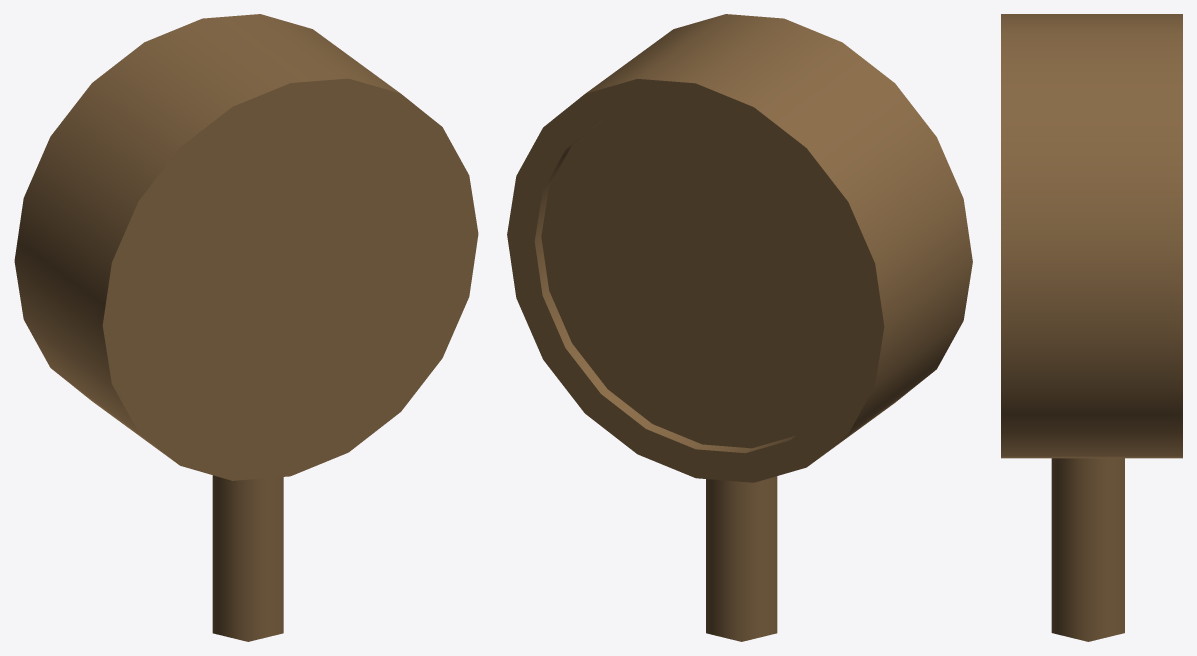
The model's file is WallDecoJ.fbx.
3 renders of one model, left to right at view 1: azimuth 30°, elevation 25°; view 2: azimuth 150°, elevation 25°; view 3: azimuth 270°, elevation 25°, orthographic. The views are drawn at different scales.
Parts seen in each view (by area): view 1: WallDecoJ; view 2: WallDecoJ, MeterHand; view 3: WallDecoJ.
Boxes of the visible parts, box(x1,y1,x2,y2) form: WallDecoJ: box(14, 14, 478, 641); WallDecoJ: box(507, 14, 972, 641); MeterHand: box(690, 129, 712, 360); WallDecoJ: box(1001, 14, 1182, 641).
Size of the model in its own units: 0.6979 by 1.02 by 0.2836.
